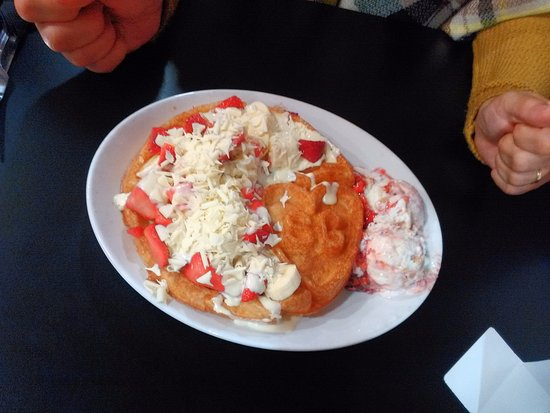ice-cream: (363, 224, 436, 296), (369, 180, 426, 232)
